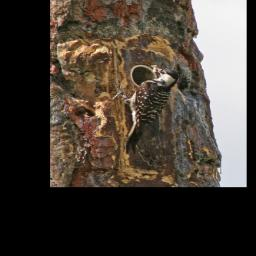Woodpecker: (112, 66, 179, 154)
